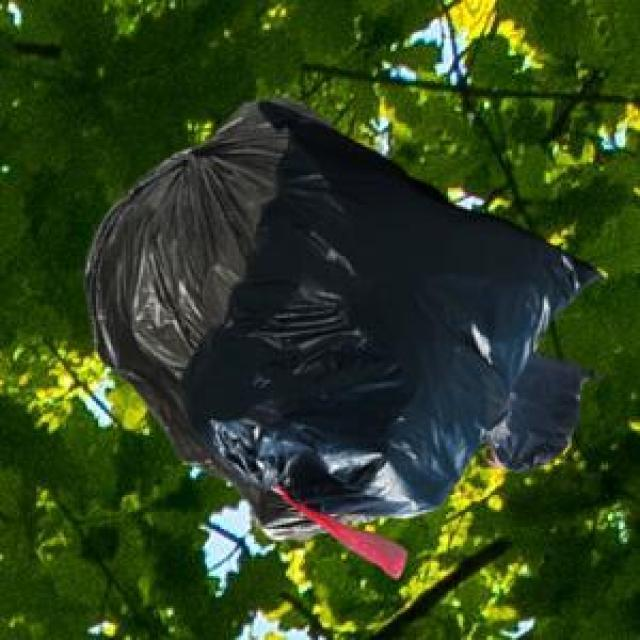waste: (86, 104, 596, 577)
